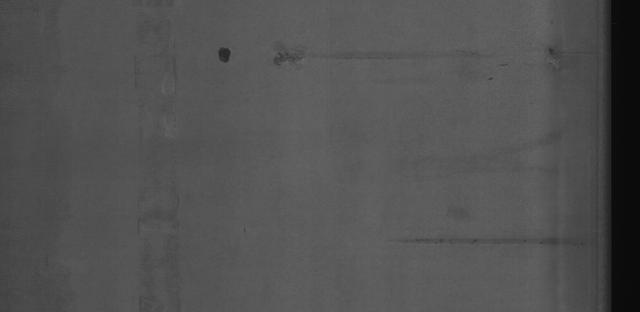oil_spot: (214, 45, 238, 67)
rolled_pit: (124, 5, 189, 310)
water_spot: (271, 45, 493, 68), (387, 230, 596, 252)
